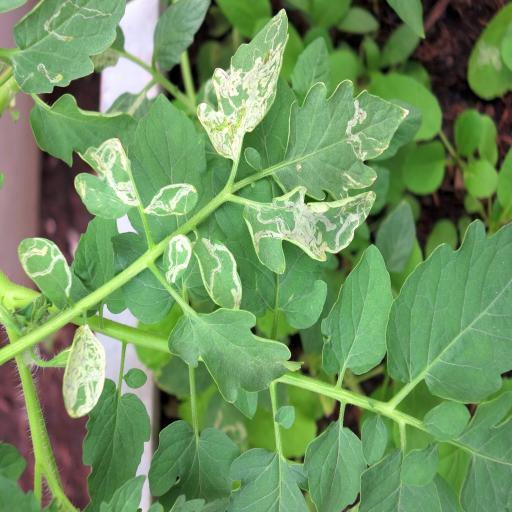Healthy: (386, 220, 512, 408), (168, 305, 292, 405), (322, 242, 394, 380), (82, 378, 151, 512), (304, 416, 368, 512)
Leaf Miner: (264, 80, 410, 200), (196, 6, 288, 170), (244, 184, 380, 276), (12, 0, 134, 94), (162, 222, 256, 310), (74, 135, 140, 219), (18, 235, 80, 314), (62, 326, 108, 417), (146, 182, 198, 218)
